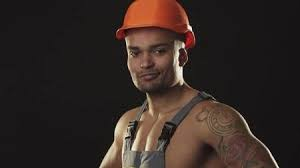Person_wearing_helmet: (111, 0, 194, 62)
